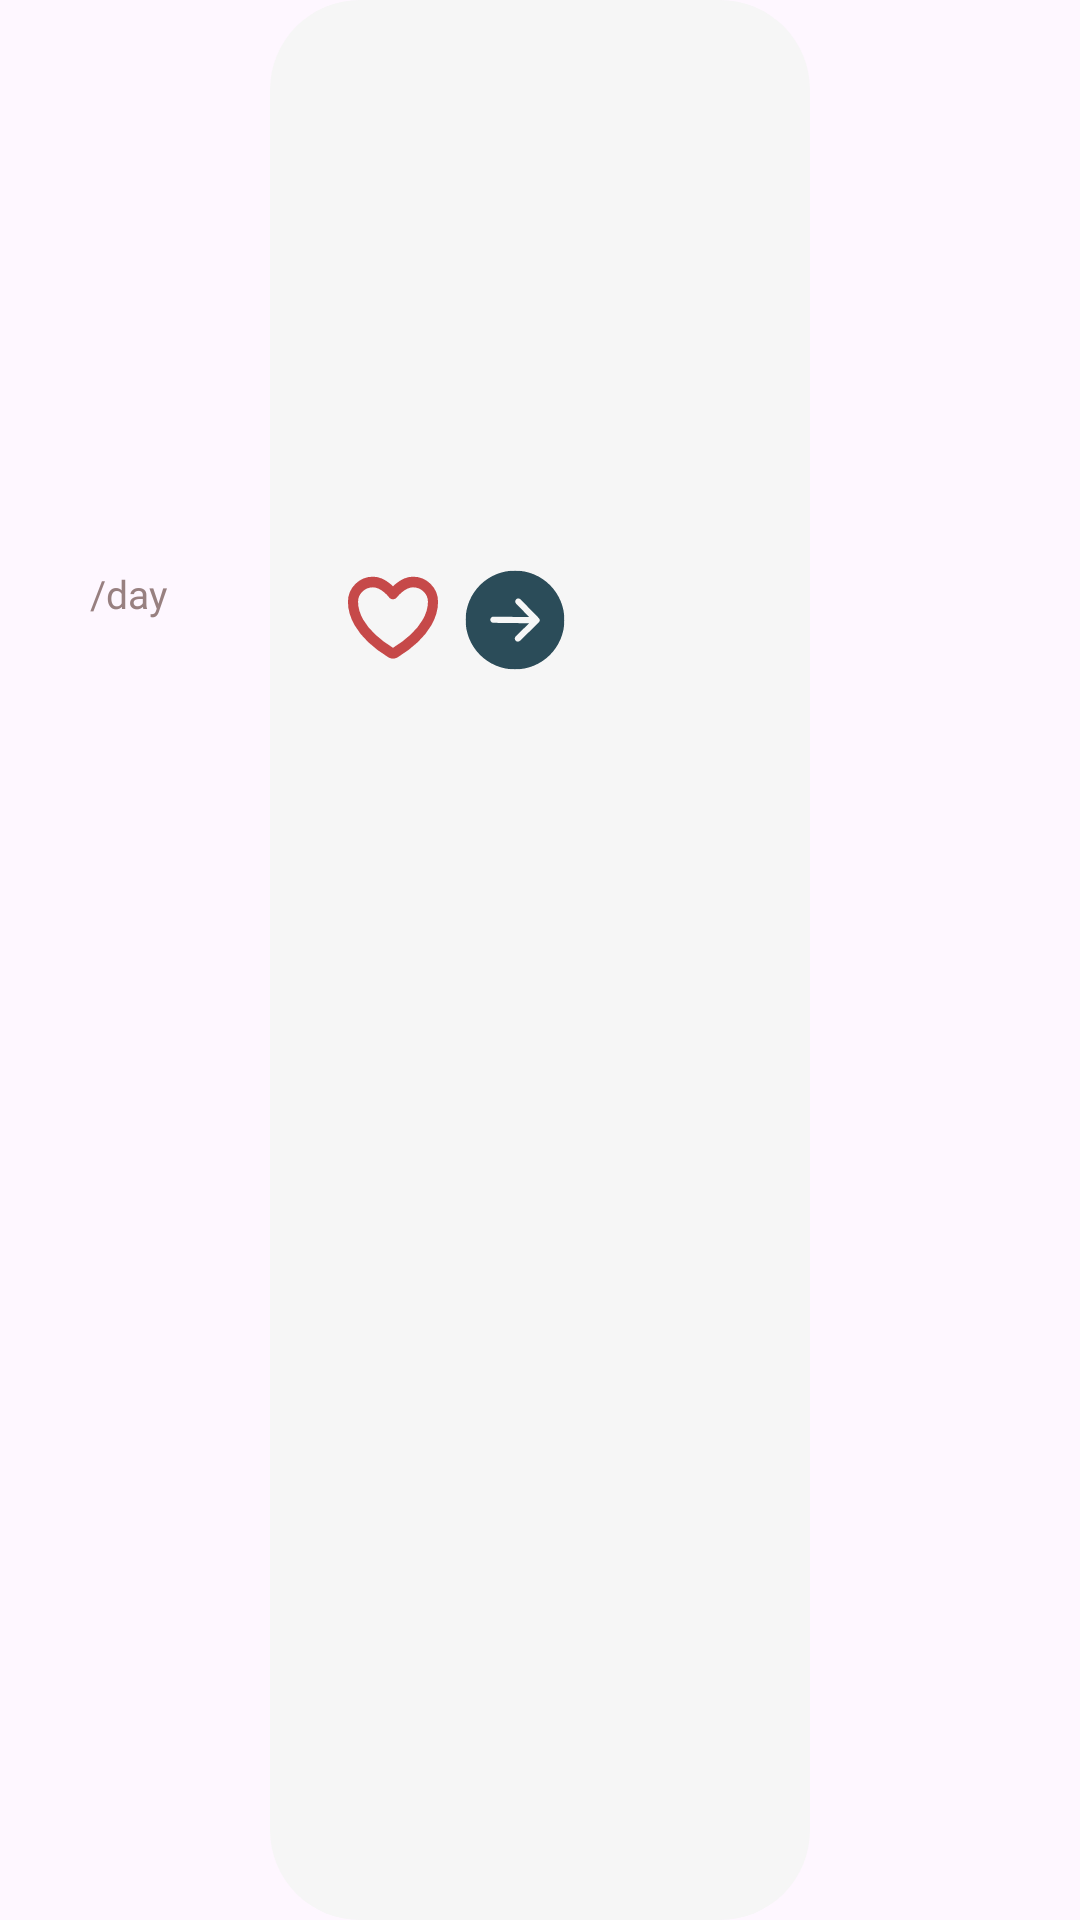

Named icons in this screenshot (1080 x 1920) and their centers, (x,y):
favorite: (393,617)
